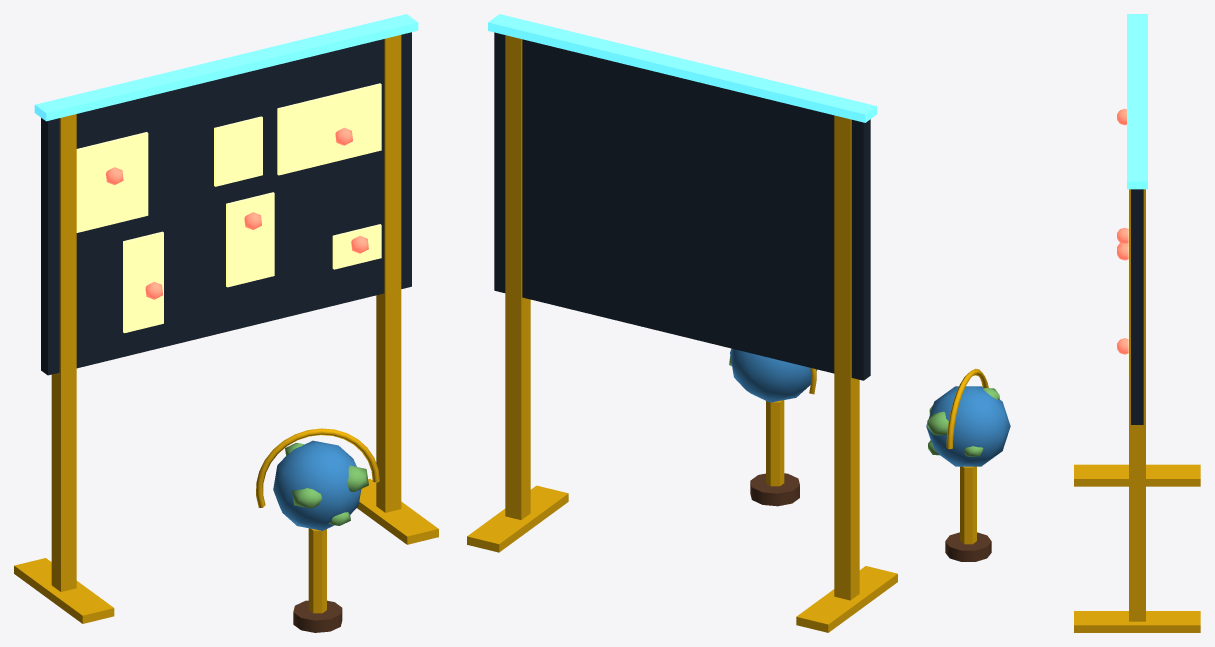
The model's file is station_transport_ausstattung_1_2.glb.
The picture shows the model from 3 angles, left to right: view 1: azimuth 30°, elevation 25°; view 2: azimuth 150°, elevation 25°; view 3: azimuth 270°, elevation 25°; orthographic projection. The views are drawn at different scales.
Visible parts, largest first — view 1: station_transport_ausstattung_1_2; view 2: station_transport_ausstattung_1_2; view 3: station_transport_ausstattung_1_2.
Part boxes in pixels (x1,y1,x2,y2): station_transport_ausstattung_1_2: (14, 14, 438, 632); station_transport_ausstattung_1_2: (467, 14, 897, 632); station_transport_ausstattung_1_2: (926, 14, 1200, 632).
Bounding box in the file's own units: 0.94 × 1.19 × 0.65.
